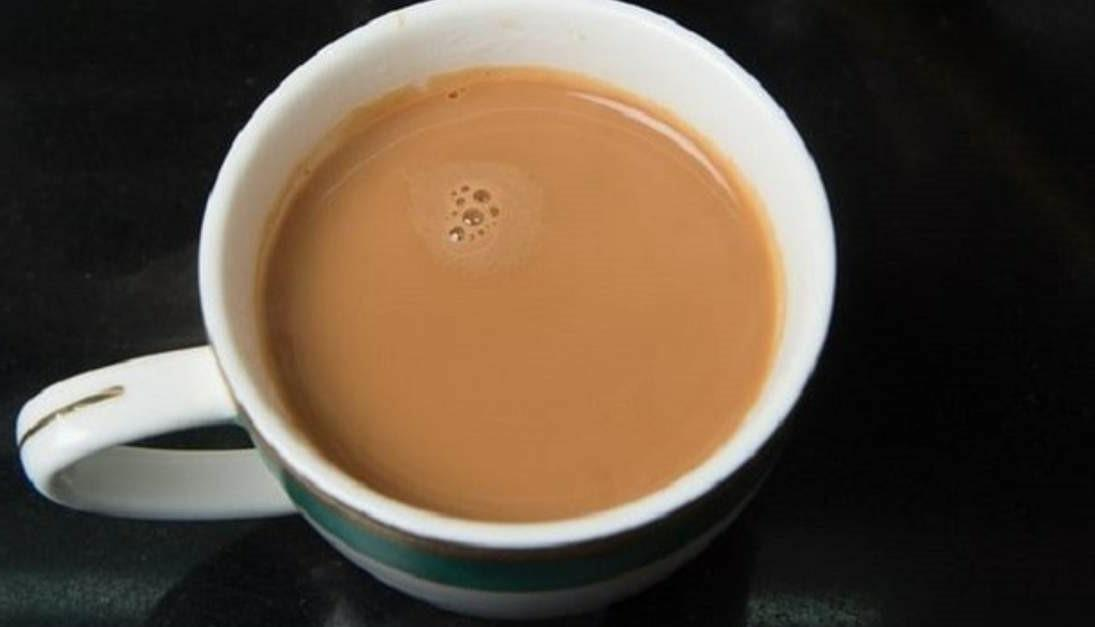Chai: (261, 71, 782, 521)
